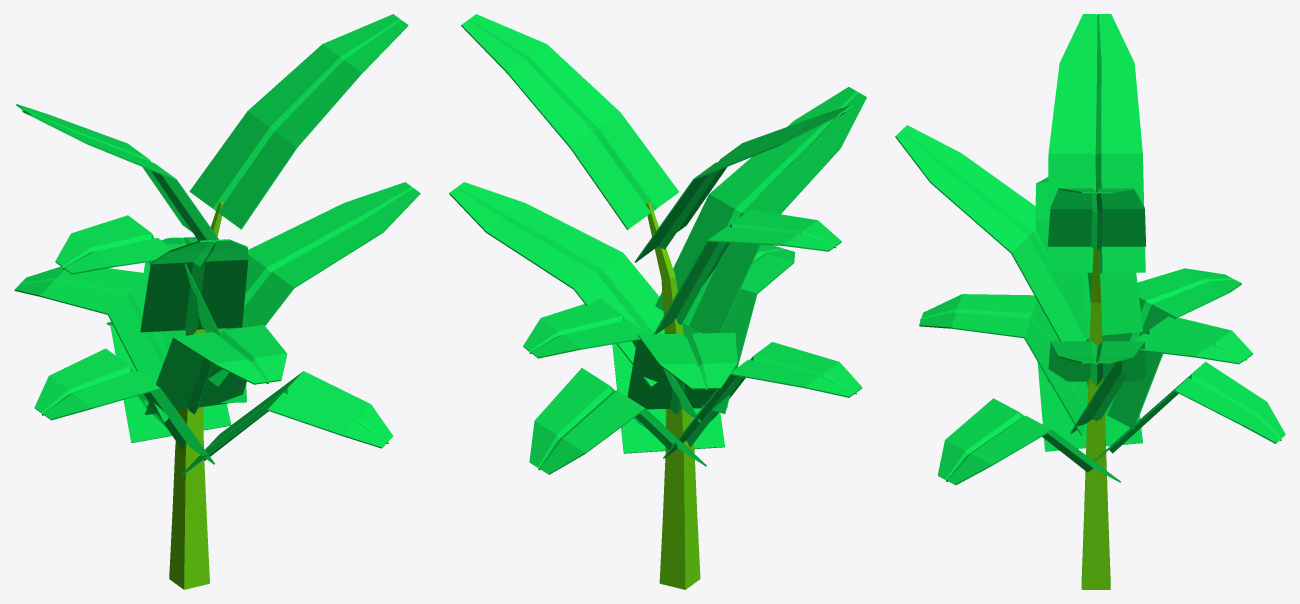
Rendered from BananaTree.fbx.
3 renders of one model, left to right at view 1: azimuth 30°, elevation 25°; view 2: azimuth 150°, elevation 25°; view 3: azimuth 270°, elevation 25°, orthographic. The views are drawn at different scales.
Visible parts, largest first — view 1: Cube; view 2: Cube; view 3: Cube.
Boxes of the visible parts, left/top/right/bottom form: Cube: left=14, top=14, right=420, bottom=589; Cube: left=449, top=14, right=866, bottom=589; Cube: left=895, top=14, right=1285, bottom=589.
Bounding box in the file's own units: 5.4 × 6 × 7.5.
